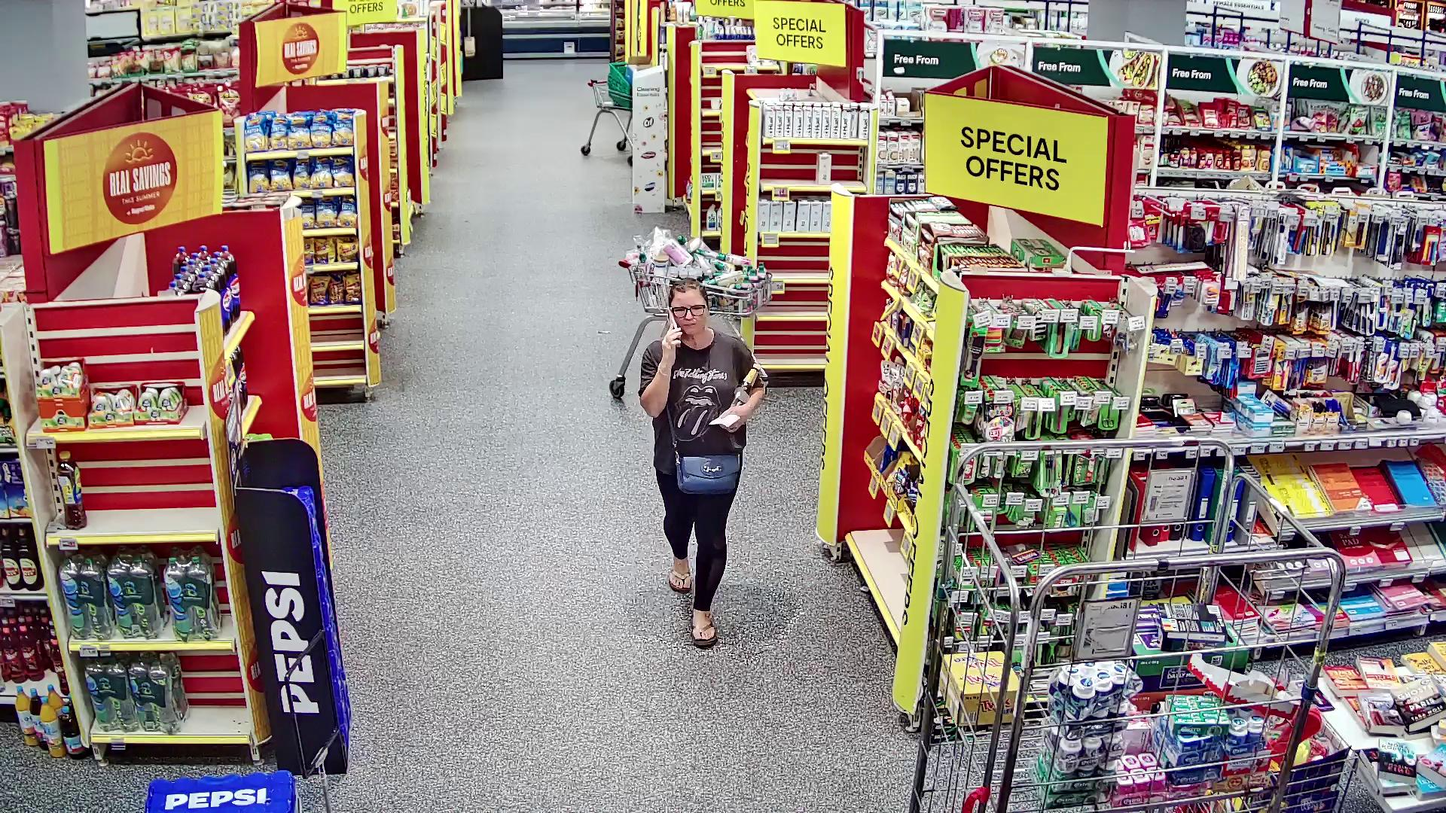backpack-or-handbag: (677, 452, 740, 494)
carrying-item: (722, 362, 763, 430)
person: (639, 278, 766, 646)
person-with-backpack-handbag-and-carrying-item-s-: (638, 278, 766, 644)
